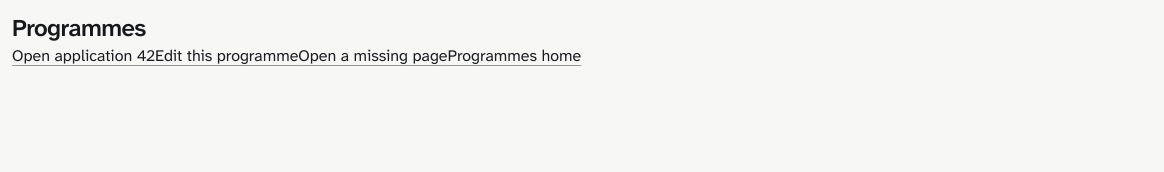
Scenario: Router: moving to another page › scrolls instantly when the person prefers reduced motion
Click the link "Open application 42" at [84, 56], box [12,45,155,66]
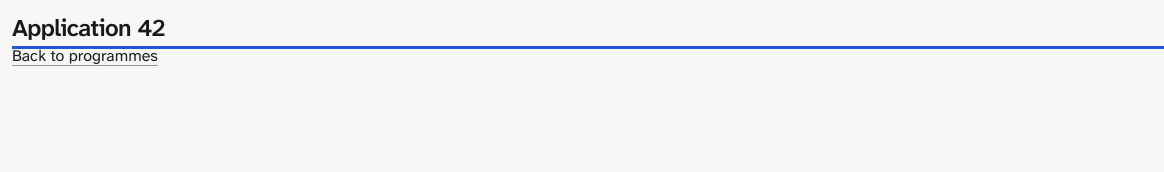
Result: the heading "Application 42" is shown at [12,12,165,44]
